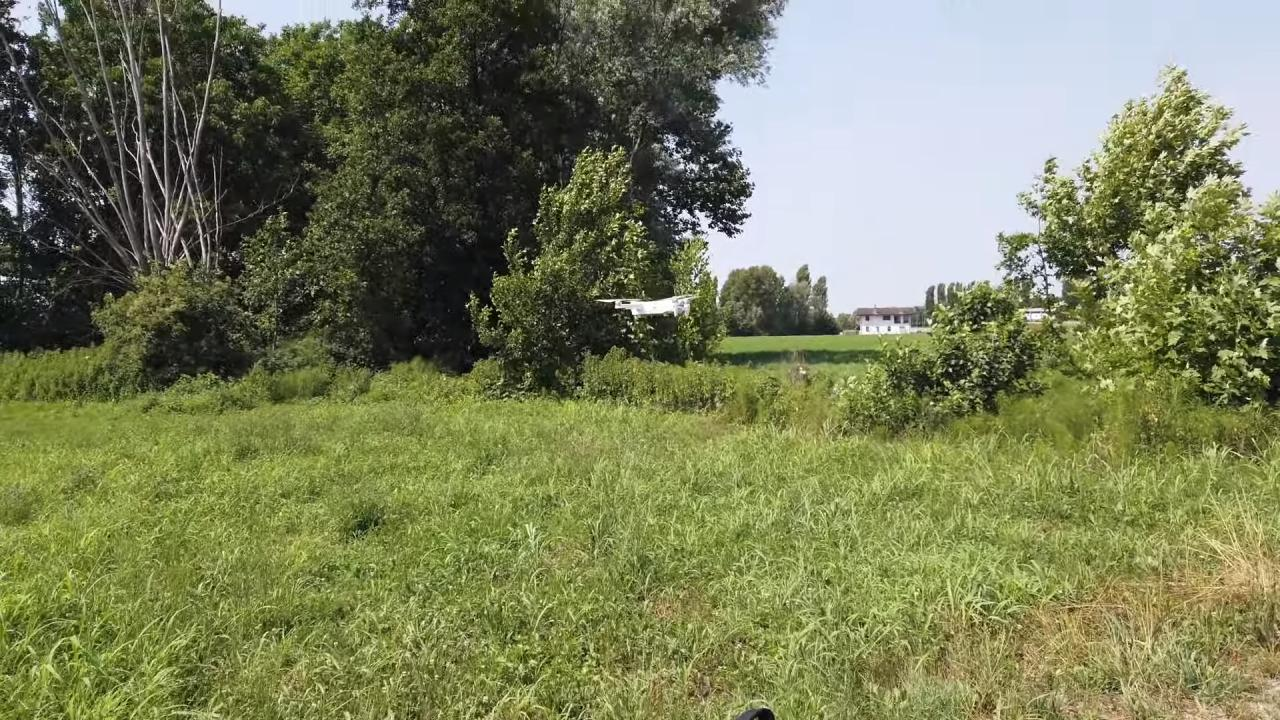Drone: (587, 288, 714, 328)
